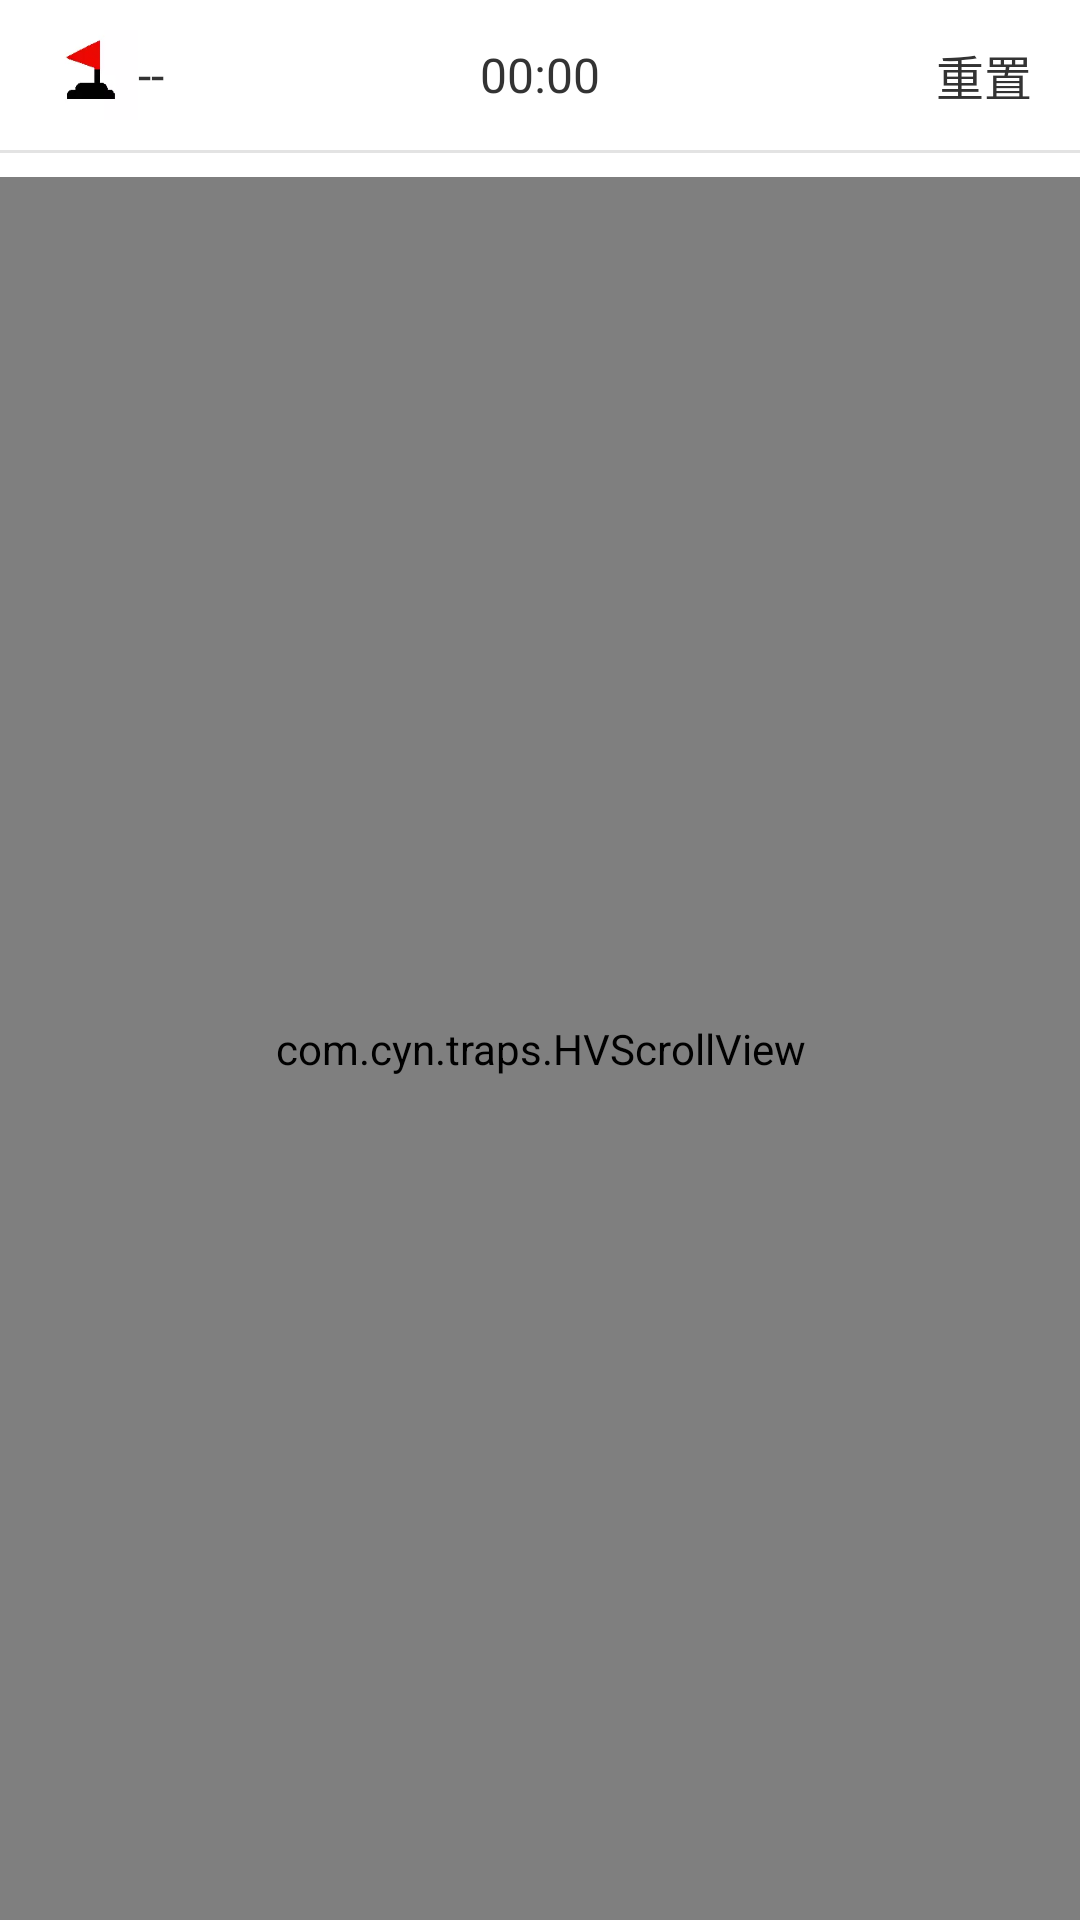

Locate icon controls on the screen. Image size 1080px x 1920px, boxes as (x1, y1, x2, y2).
explain flag: (66, 40, 115, 99)
